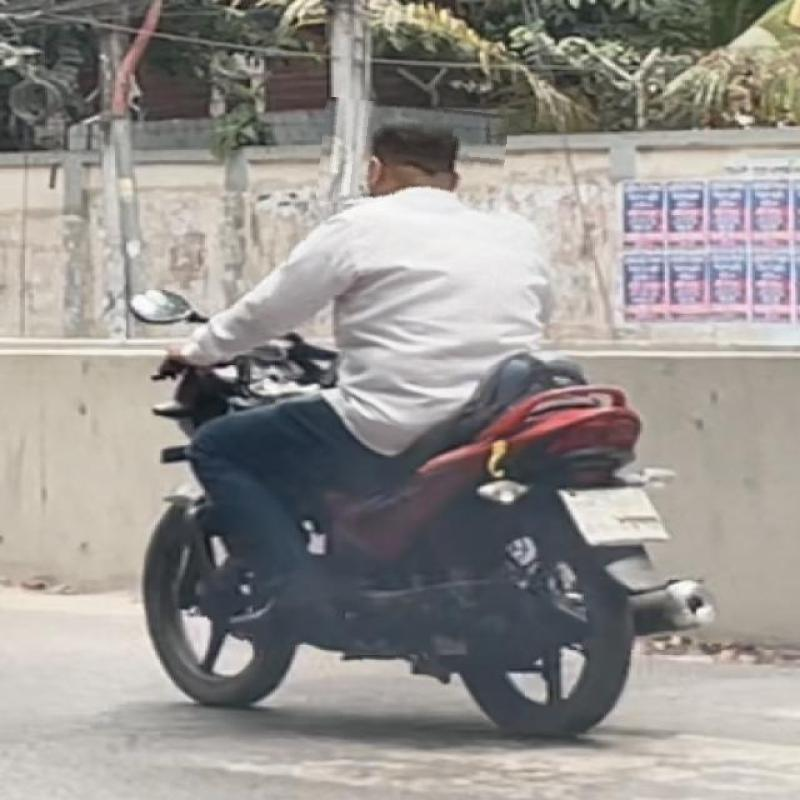nohelmet: (318, 100, 508, 214)
